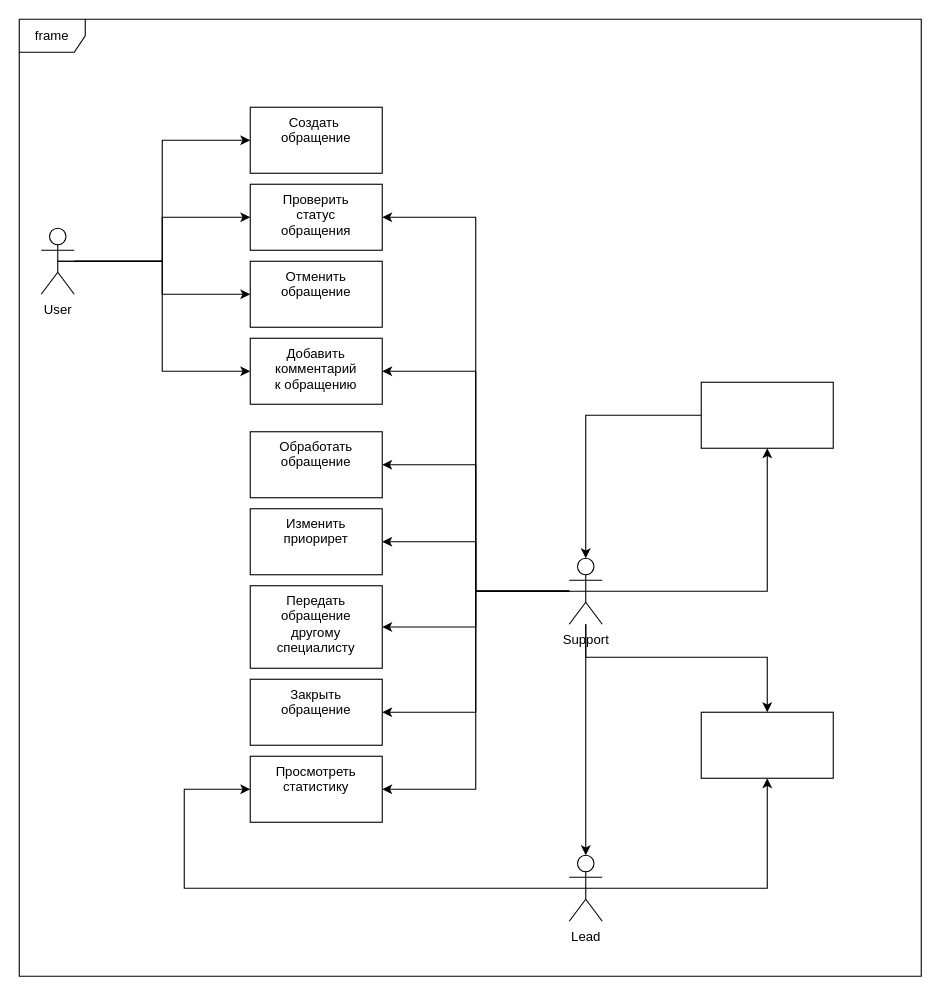
Image size: 941x996. Some labels were removed from this diagram. The shapes that lost their labels are listed below. From the top down, each one's centre as x and y in pixels, then its label:
At point (766, 414): "Эскалировать обращение".
At point (766, 744): "Управлять базой знаний".
